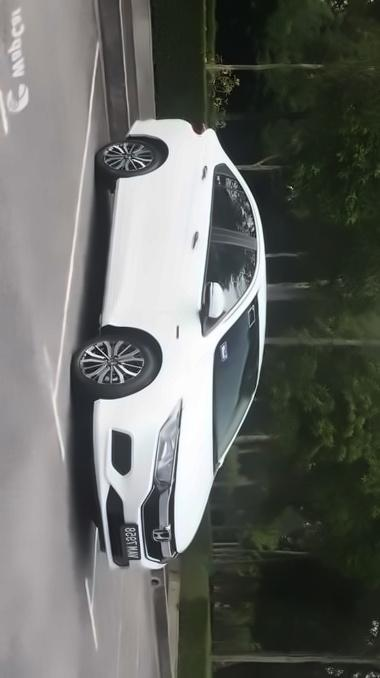Car hood: (170, 344, 217, 556)
Driver-s door - -F-R-: (112, 230, 265, 319)
Fender - -F-R-: (98, 322, 223, 410)
Fender - -R-R-: (115, 134, 214, 182)
Front bumper: (86, 391, 164, 575)
Headlight - -R-: (148, 396, 189, 496)
Passenger-s door - -R-R-: (117, 157, 260, 231)
Rear bumper: (121, 111, 169, 142)
Rear light - -R-: (184, 115, 217, 136)
Side bumper - -R-: (95, 170, 133, 345)
Side mirror - -R-: (191, 276, 231, 321)
